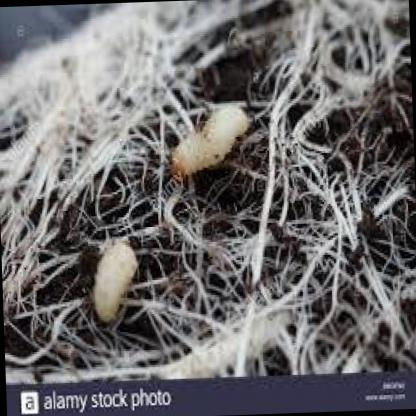root grubs: (172, 107, 255, 177), (91, 238, 137, 326)
